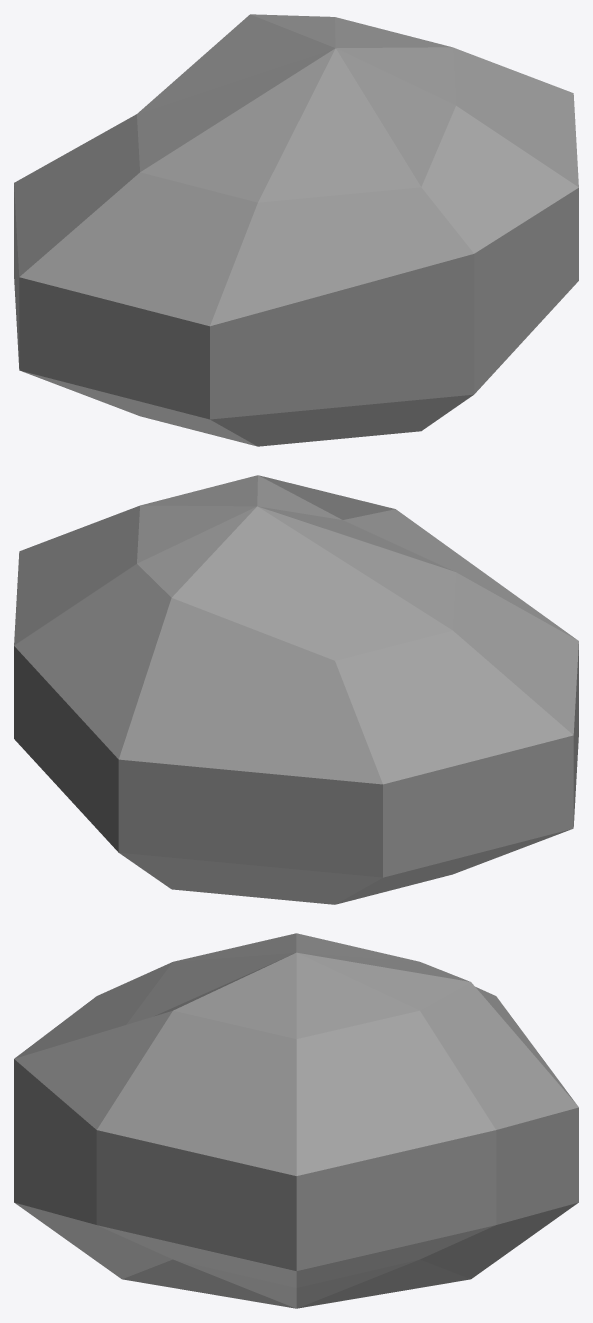
Rendered from Rock_2.fbx.
3 renders of one model, top to bottom at view 1: azimuth 30°, elevation 25°; view 2: azimuth 150°, elevation 25°; view 3: azimuth 270°, elevation 25°, orthographic.
Parts seen in each view (by area): view 1: Rock_2; view 2: Rock_2; view 3: Rock_2.
Part boxes in pixels (left/top/right/bottom): Rock_2: left=14, top=14, right=578, bottom=446; Rock_2: left=14, top=475, right=578, bottom=904; Rock_2: left=14, top=933, right=578, bottom=1308.
Size of the model in its own units: 2.2 by 1.32 by 1.9.
Materials: 1 (1 with a texture image).
